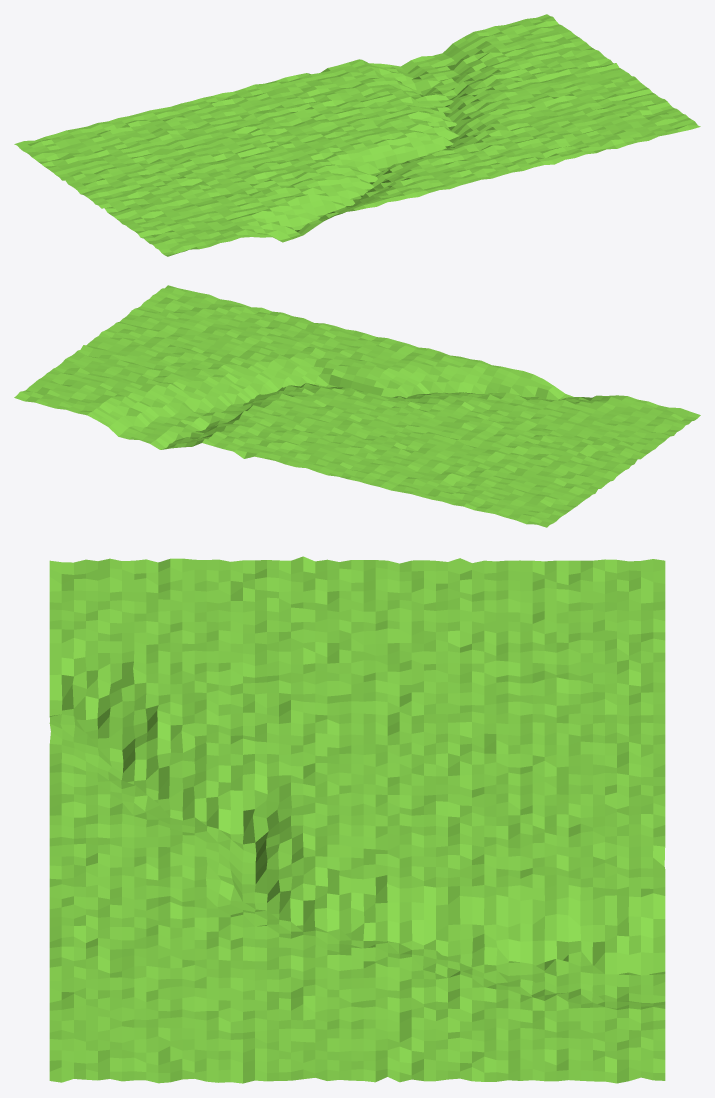
File: land.fbx
3 renders of one model, top to bottom at view 1: azimuth 30°, elevation 25°; view 2: azimuth 150°, elevation 25°; view 3: azimuth 270°, elevation 25°, orthographic. The views are drawn at different scales.
Visible parts, largest first — view 1: Plane; view 2: Plane; view 3: Plane.
Boxes of the visible parts, bbox=[...] form: Plane: bbox=[14, 14, 700, 256]; Plane: bbox=[14, 285, 700, 527]; Plane: bbox=[49, 556, 665, 1083].
Size of the model in its own units: 20000 by 817 by 10000.
